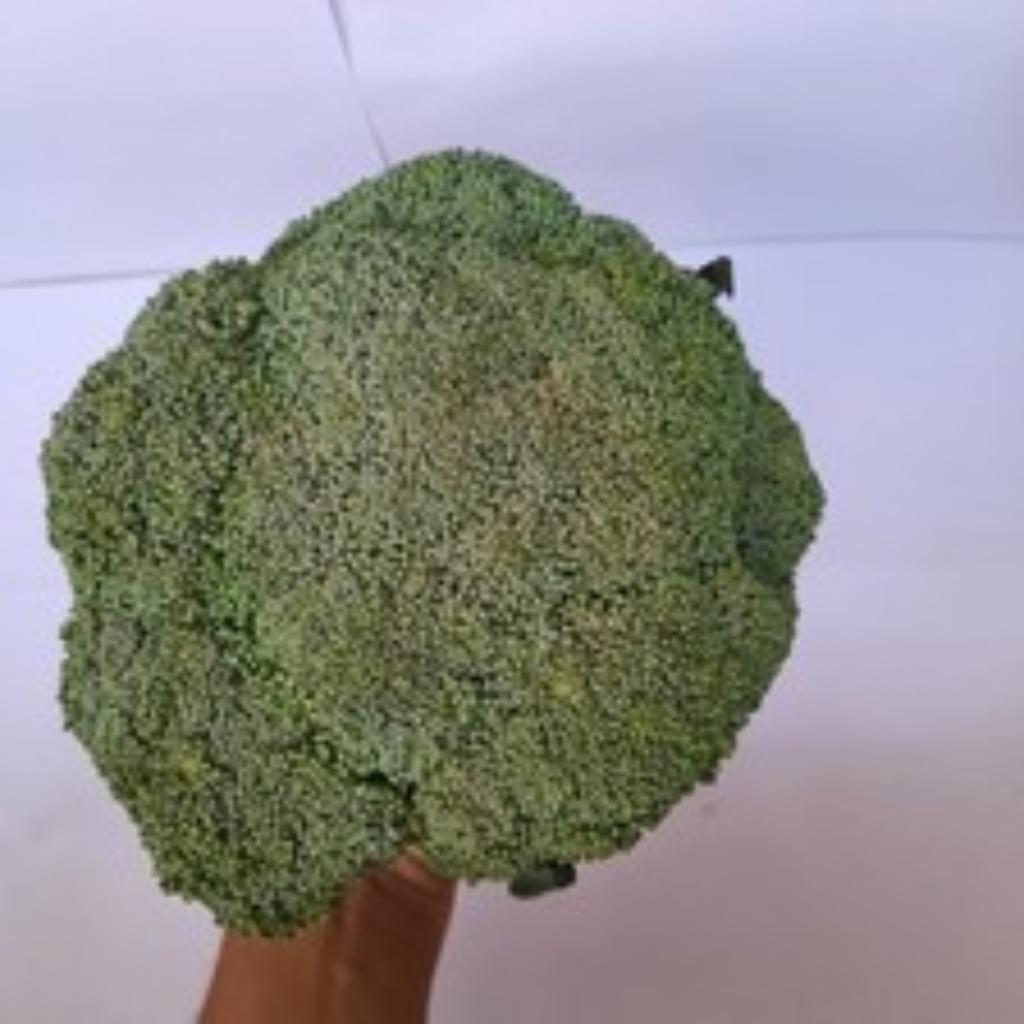Broccoli: (44, 154, 822, 935)
